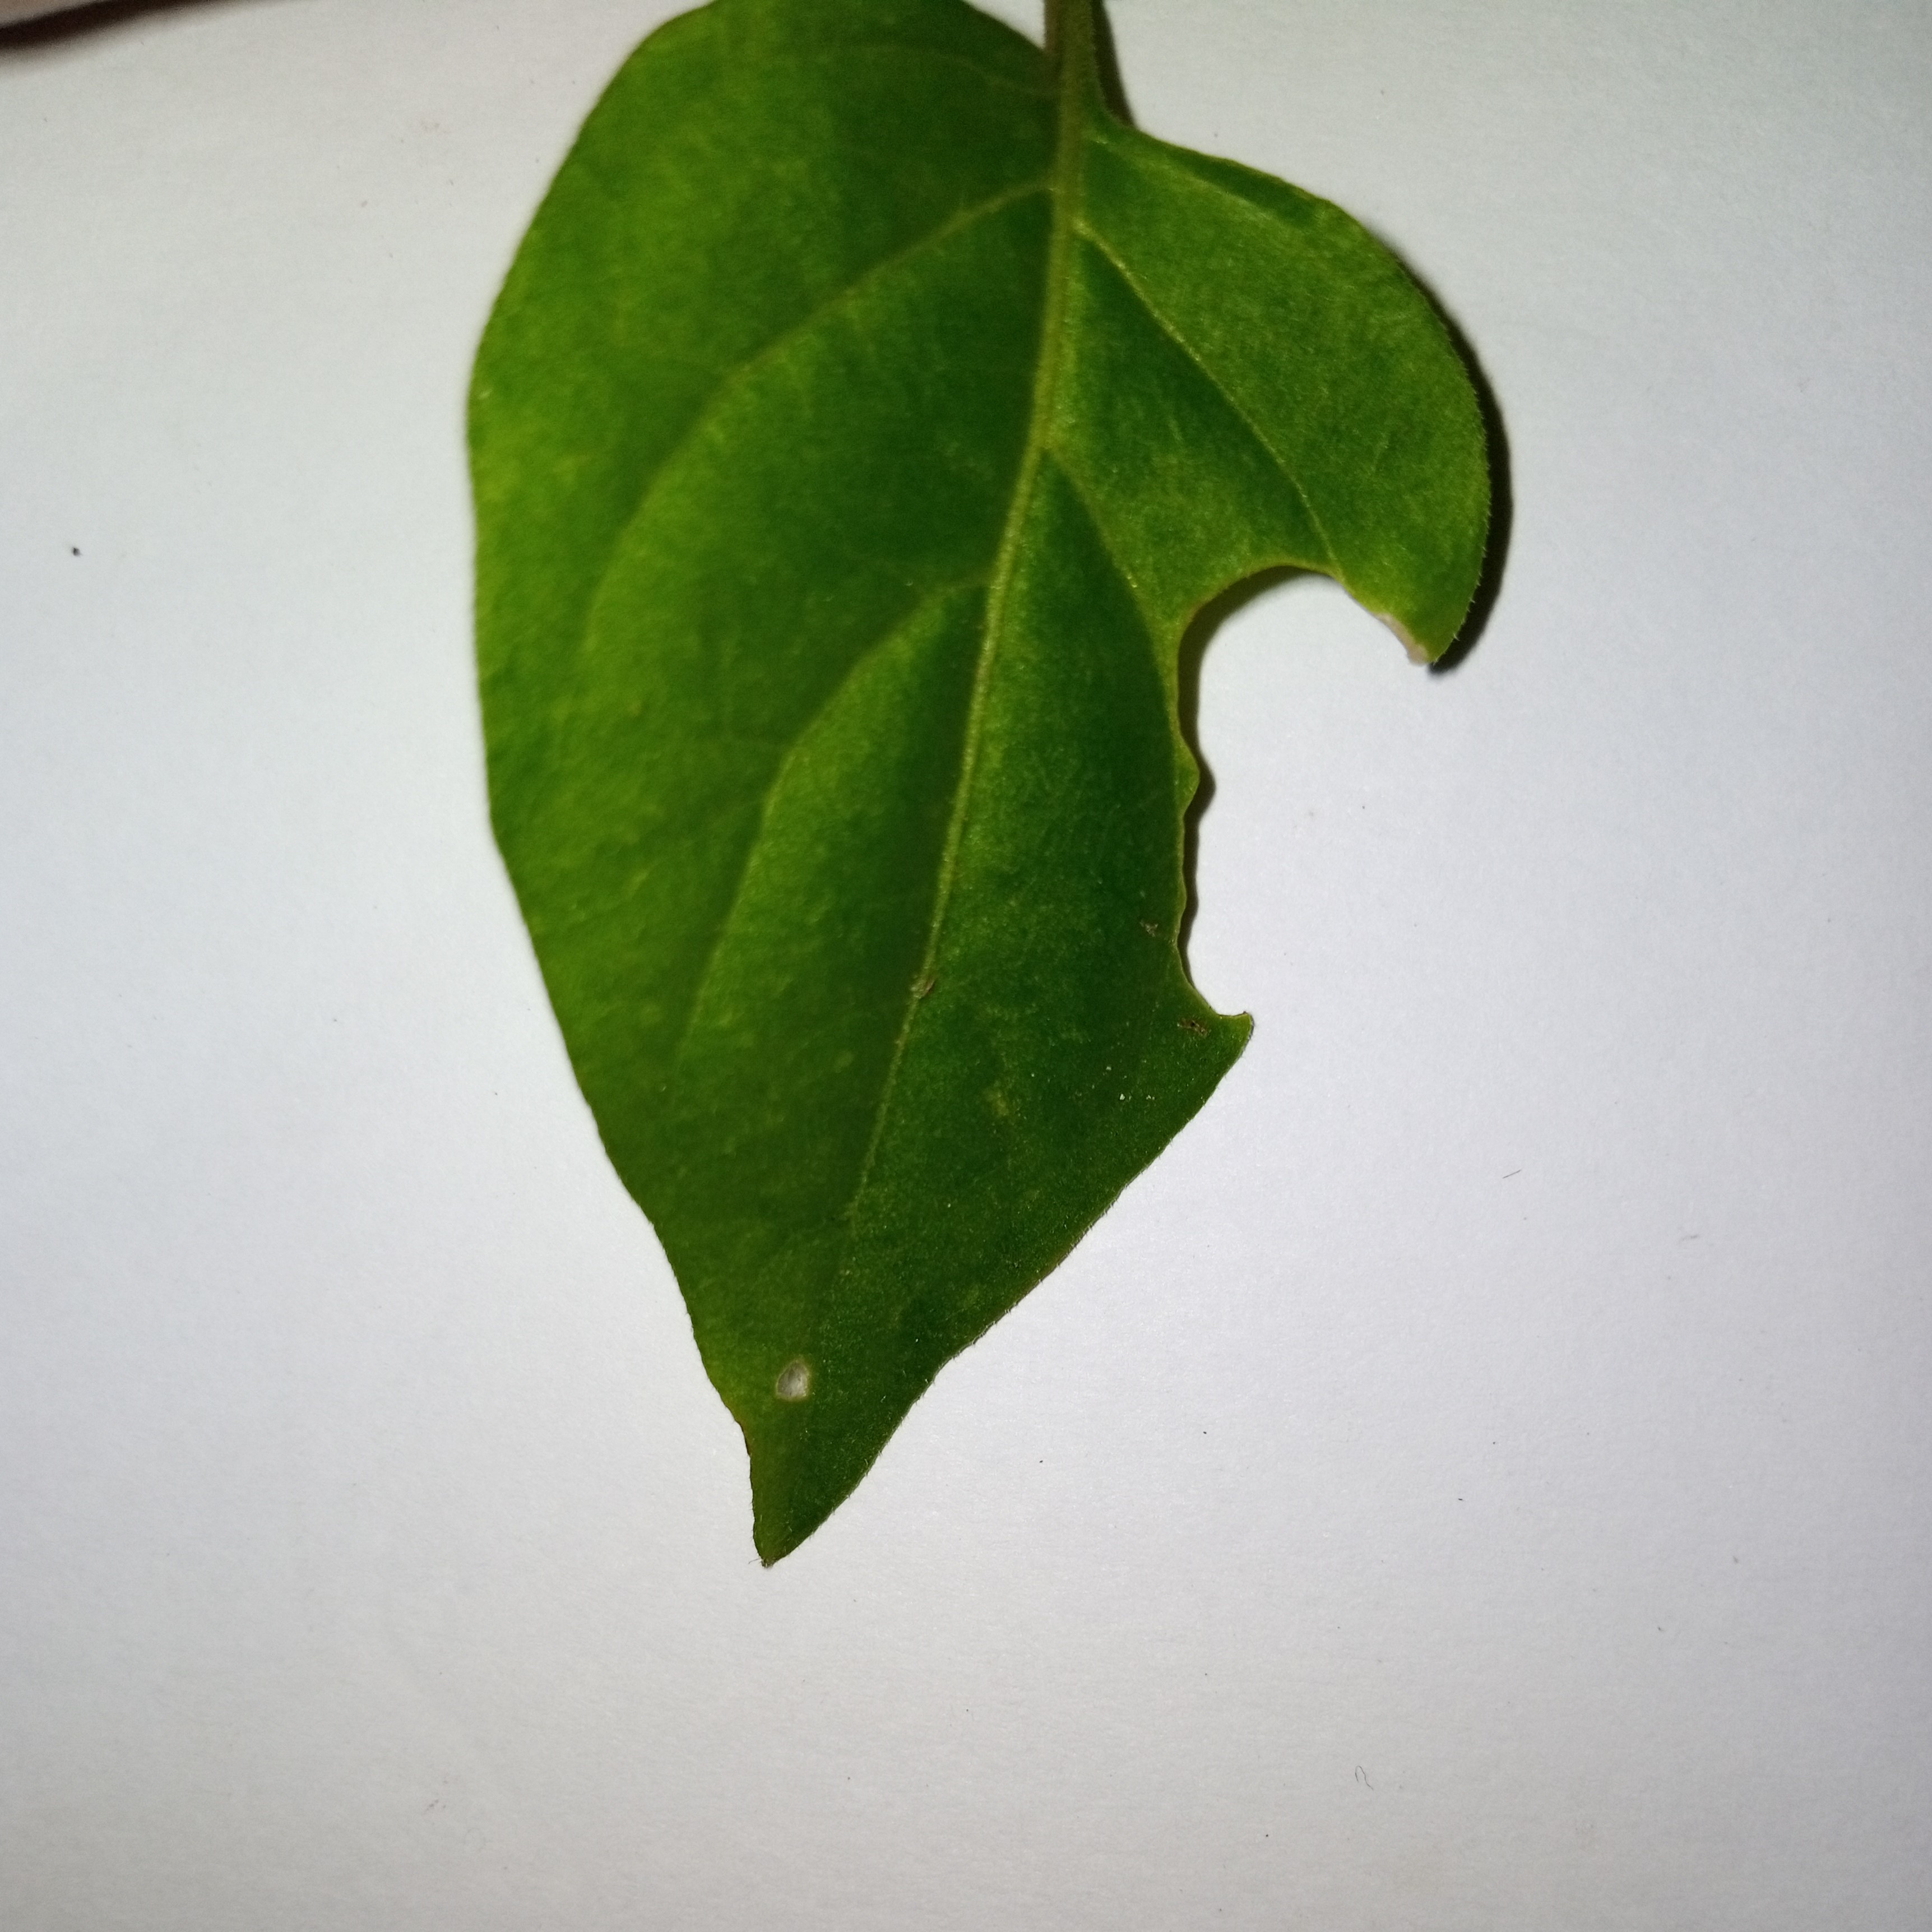Leaf: (308, 4, 1576, 1638)
